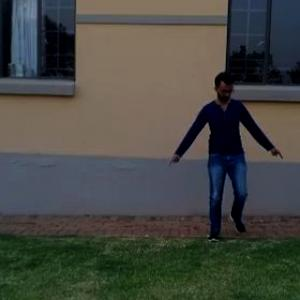land: (168, 74, 284, 248)
